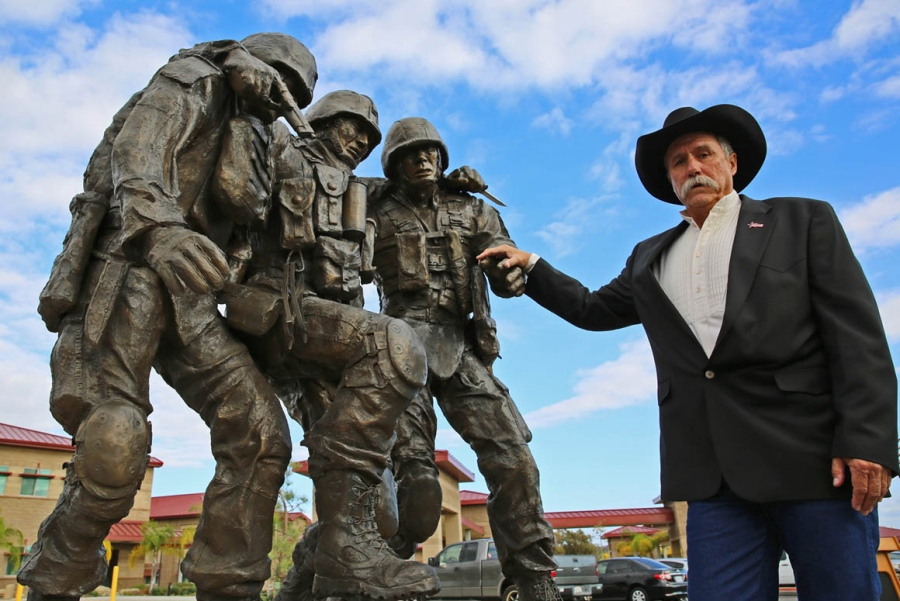person: (471, 97, 896, 601)
person-like: (12, 28, 321, 601), (224, 83, 447, 601), (374, 112, 567, 601)
